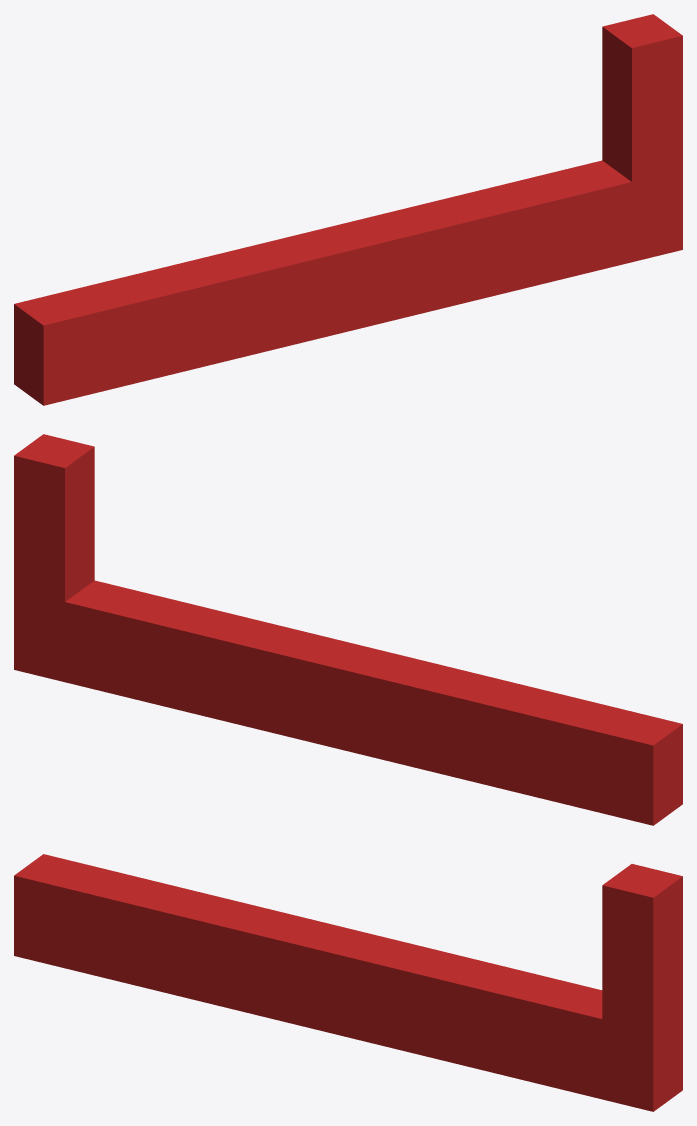
The model's file is lpeg.obj.
3 views of the same model, one above another, from view 1: azimuth 30°, elevation 25°; view 2: azimuth 150°, elevation 25°; view 3: azimuth 330°, elevation 25° (orthographic).
Visible parts, largest first — view 1: lpeg; view 2: lpeg; view 3: lpeg.
Part boxes in pixels (x1,y1,x2,y2): lpeg: [14, 14, 682, 405]; lpeg: [14, 434, 682, 825]; lpeg: [14, 854, 682, 1111].
Bounding box in the file's own units: 0.25 × 0.08 × 0.02.
1 material, 1 textured.
